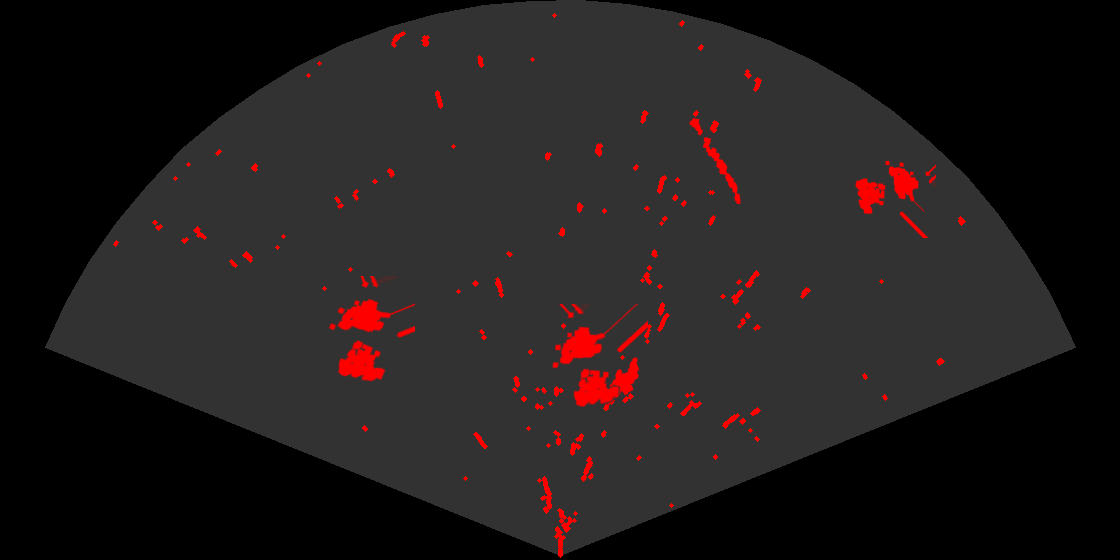AUV: (608, 356, 641, 400)
cage: (551, 304, 648, 409), (327, 276, 415, 383), (854, 159, 936, 238)
chain: (688, 116, 742, 206)
